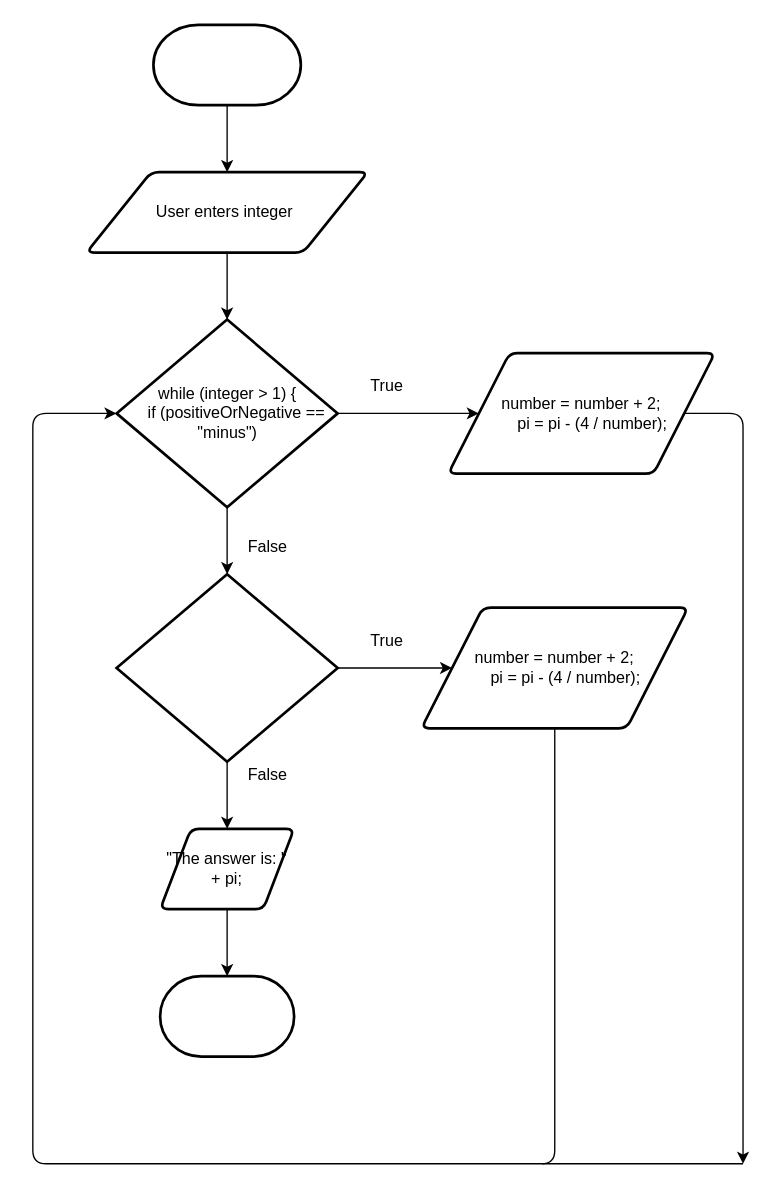
The diagram is 777 pixels wide and 1198 high, and some of its shapes have lost their labels. The box of each missing label's shape, as (x1, y1, x2, y2) in pixels:
else if (positiveOrNegative == "plus"): (115, 572, 338, 762)
Start: (151, 23, 302, 106)
Stop: (158, 974, 295, 1057)
